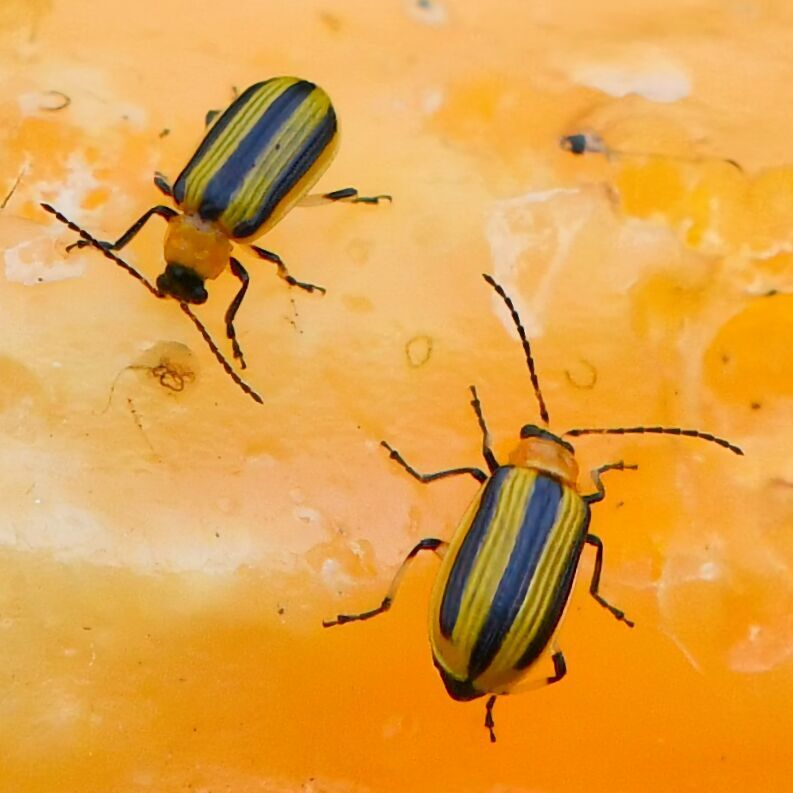potato_beetle: (225, 202, 793, 793), (46, 0, 443, 474)
